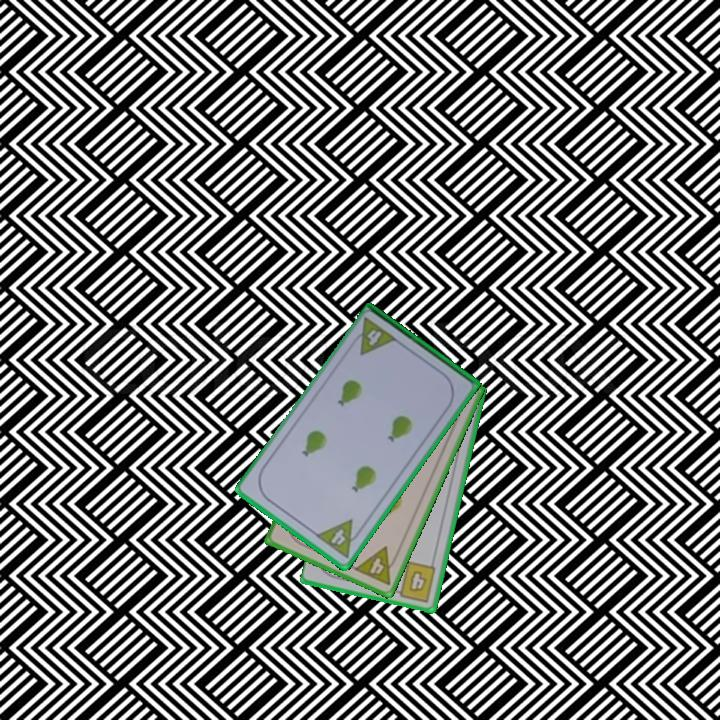4b: (390, 558, 439, 605)
4p: (312, 516, 367, 561), (351, 543, 402, 589), (347, 315, 400, 358)
